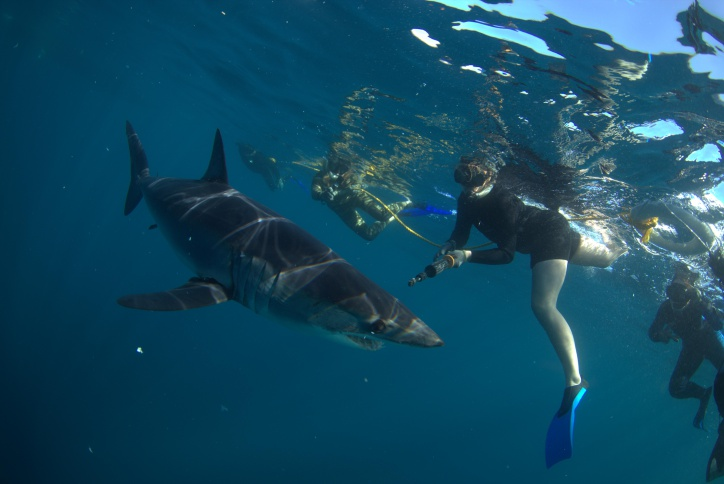Mako: (106, 114, 452, 366)
